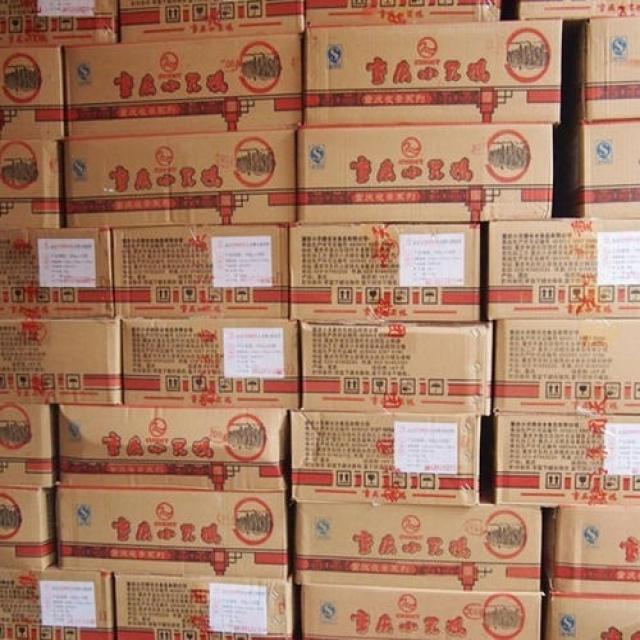box: (305, 18, 563, 128), (296, 124, 554, 224), (65, 32, 303, 137), (63, 128, 296, 227), (292, 503, 540, 592), (52, 489, 291, 580), (60, 404, 288, 490), (288, 222, 481, 321), (296, 320, 494, 416), (288, 411, 481, 504), (111, 222, 289, 317), (120, 317, 301, 408), (485, 216, 640, 320), (492, 316, 640, 415), (494, 413, 640, 507), (301, 585, 541, 640), (114, 573, 294, 640), (0, 317, 120, 407), (0, 227, 113, 320), (544, 504, 640, 596), (0, 566, 115, 640), (119, 0, 303, 41), (573, 119, 640, 220), (580, 14, 640, 121), (0, 44, 63, 140), (0, 139, 61, 228), (303, 0, 499, 27), (0, 404, 61, 486), (545, 592, 640, 640), (0, 485, 55, 567), (517, 0, 640, 21)
